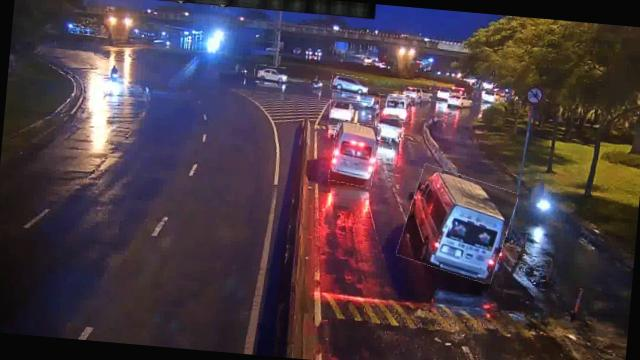Bus: (399, 167, 516, 281), (329, 120, 380, 187), (378, 93, 416, 124)
Car: (372, 108, 404, 142), (330, 74, 370, 96), (255, 65, 287, 86), (328, 100, 358, 122)
